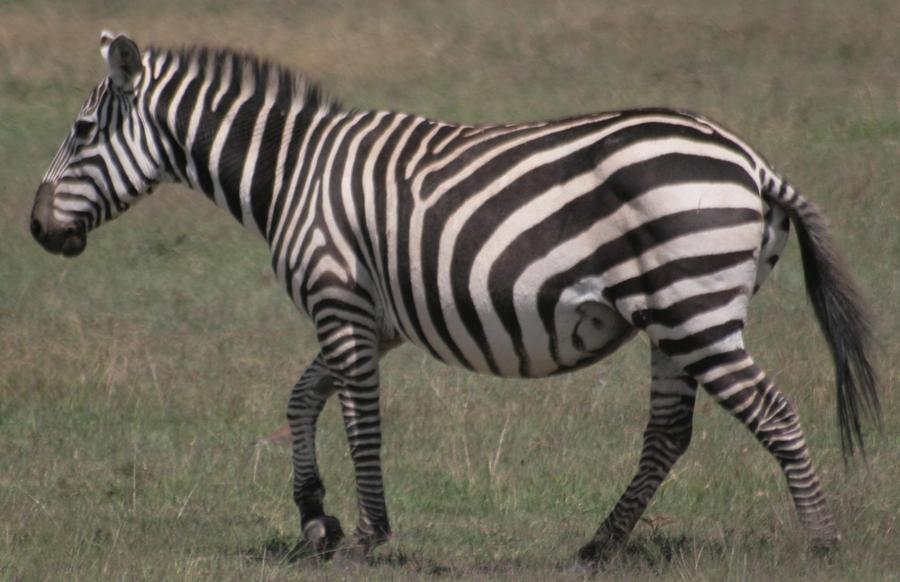zebra_plains: (277, 99, 710, 373)
